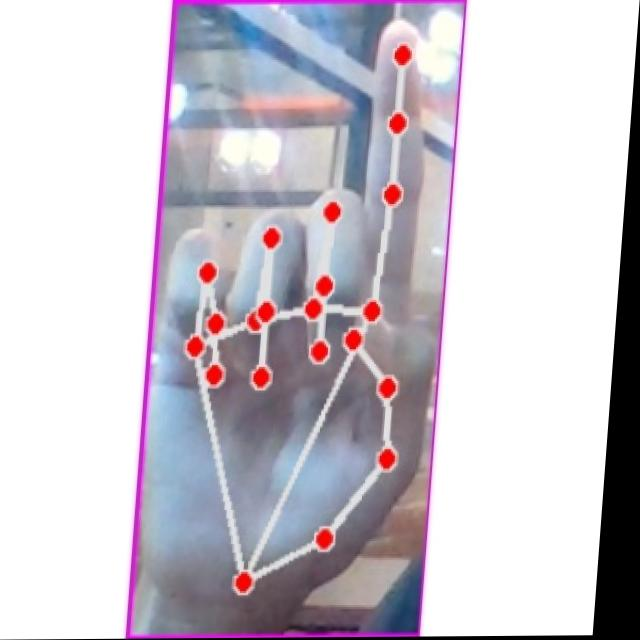D: (145, 14, 454, 606)
